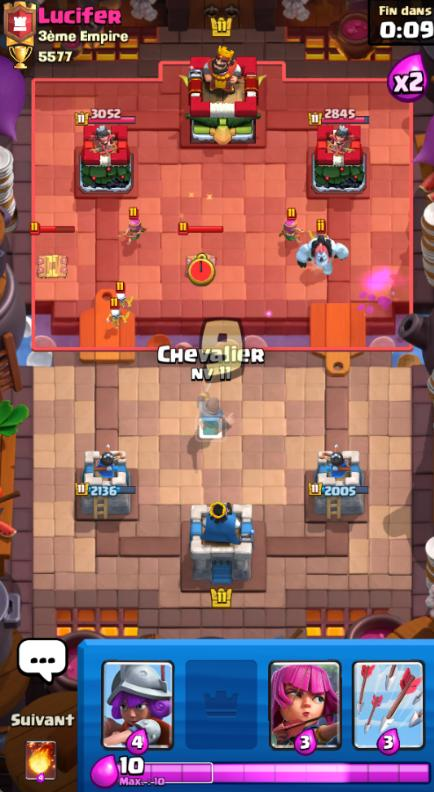archere: (119, 218, 153, 247), (280, 218, 305, 242)
chevalier: (189, 385, 238, 441)
squelette: (108, 309, 128, 329), (114, 292, 135, 308)
